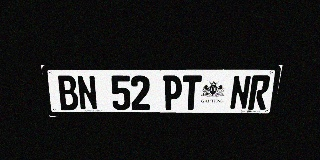2: (130, 75, 150, 110)
5: (111, 75, 131, 110)
B: (56, 75, 79, 110)
N: (229, 75, 252, 110), (76, 75, 98, 110)
P: (163, 75, 182, 110)
R: (248, 75, 271, 110)
T: (182, 75, 202, 110)
